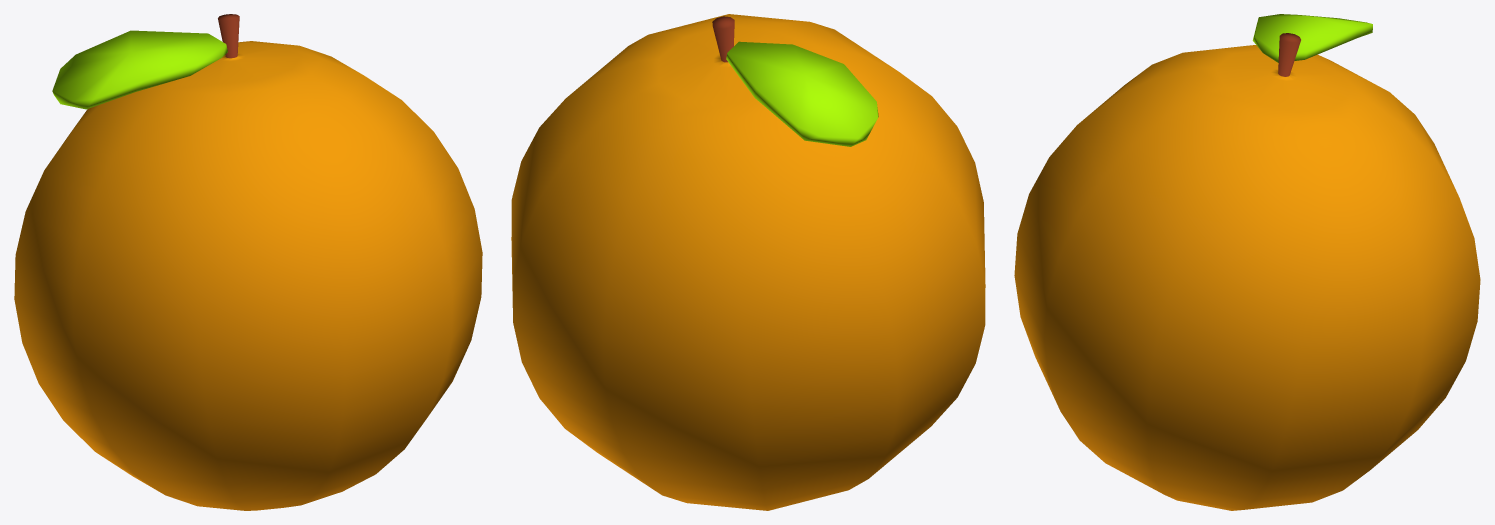
The model's file is orange_orange.glb.
3 views of the same model, side by side, from view 1: azimuth 30°, elevation 25°; view 2: azimuth 150°, elevation 25°; view 3: azimuth 270°, elevation 25° (orthographic). The views are drawn at different scales.
Parts seen in each view (by area): view 1: orange_orange; view 2: orange_orange; view 3: orange_orange.
Part boxes in pixels (x1=…): orange_orange: x1=14, y1=14, x2=482, y2=510; orange_orange: x1=511, y1=14, x2=985, y2=510; orange_orange: x1=1014, y1=14, x2=1480, y2=510.
Bounding box in the file's own units: 0.4199 × 0.46 × 0.4275.
1 material, 1 textured.
